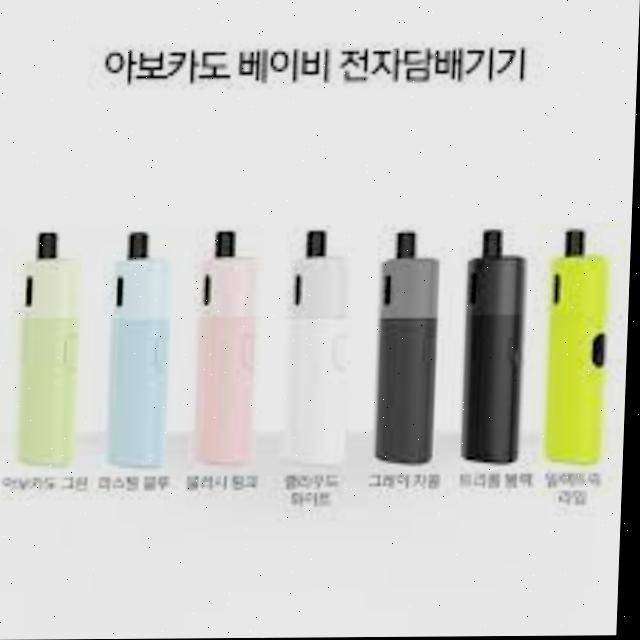vape: (282, 231, 356, 469), (196, 229, 264, 466), (378, 230, 446, 467), (546, 228, 614, 463), (462, 228, 529, 466), (110, 230, 175, 466), (21, 230, 83, 465)
